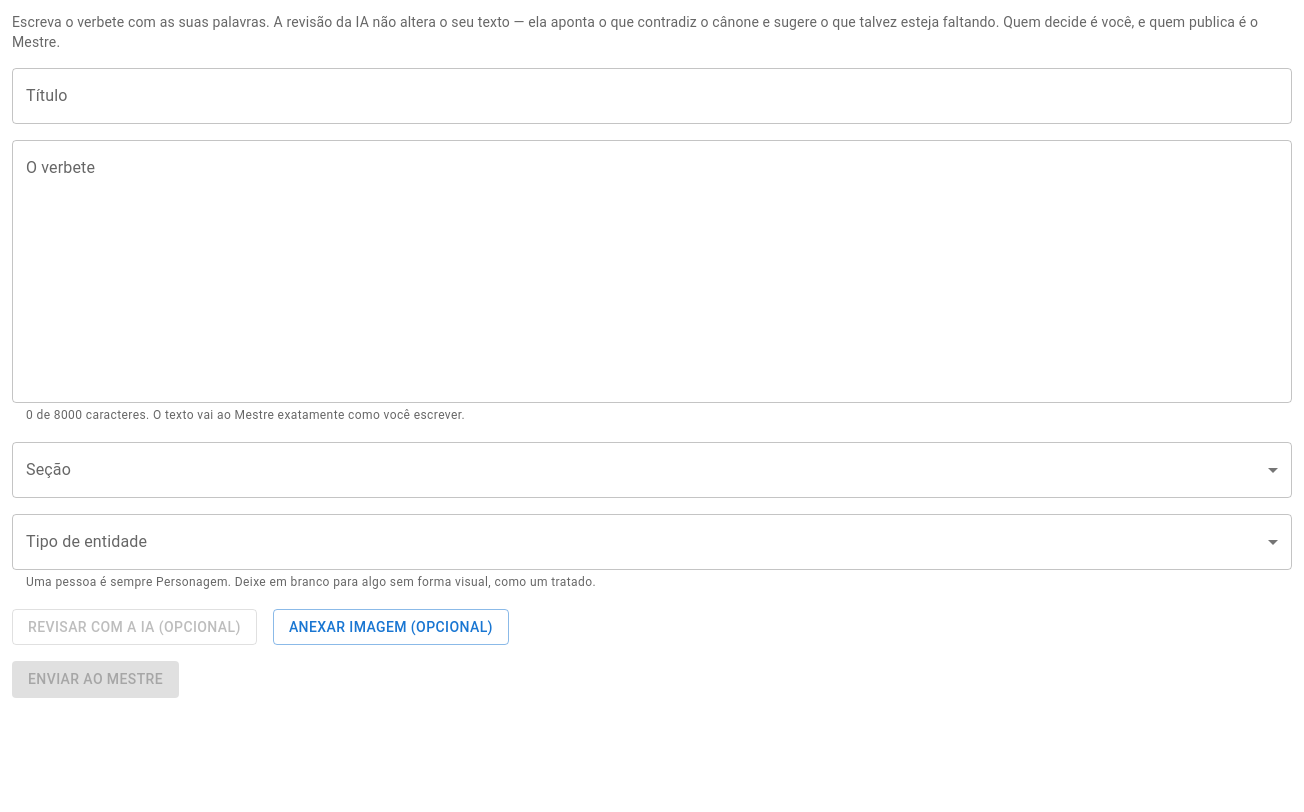
Test: o que a revisão mostra › diz claramente quando não há nada a apontar
In the field labelled "Título": (652, 96) [12,68,1292,124], type "Sera de Toreador"
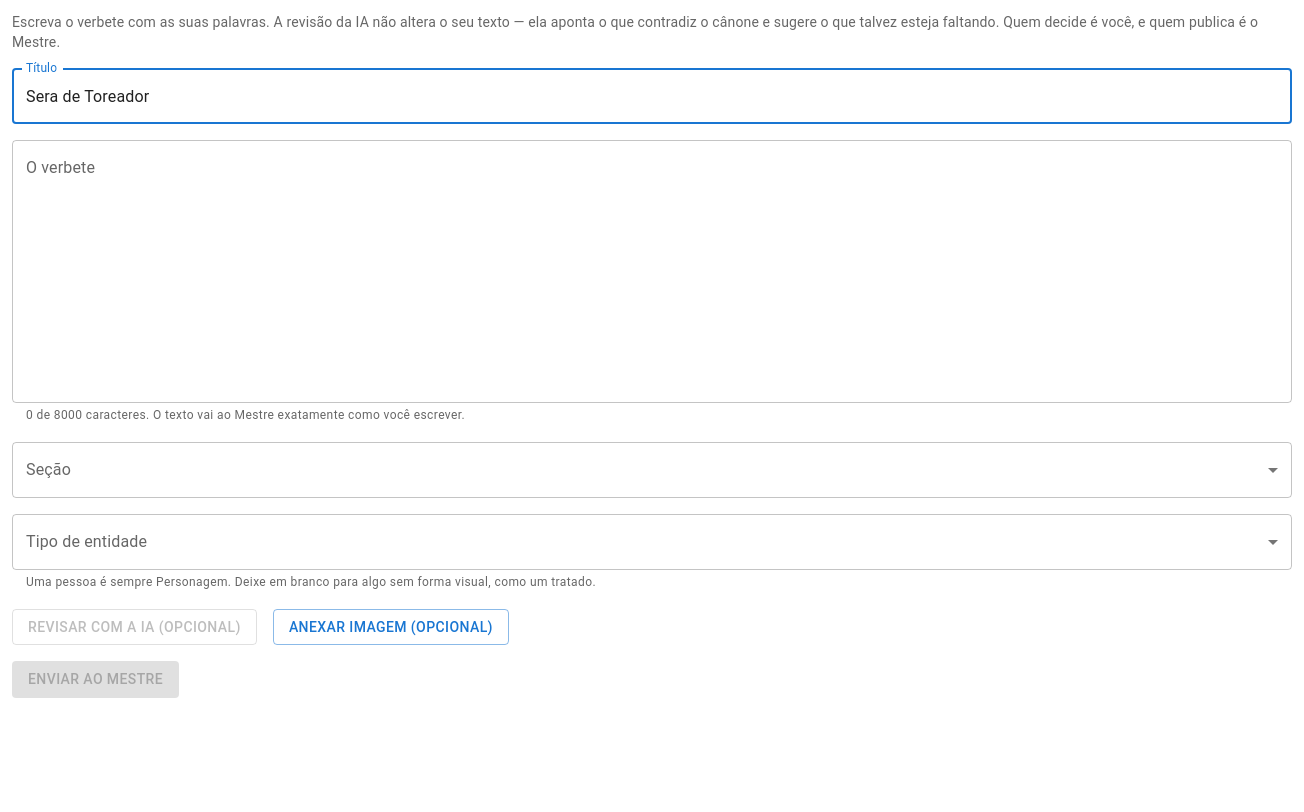
In the text box labelled "O verbete": (652, 272) [26,156,1278,386], type "Batedora das fronteiras do Norte, conhecida por atravessar o Muro dos Ausentes sozinha em pleno inverno."
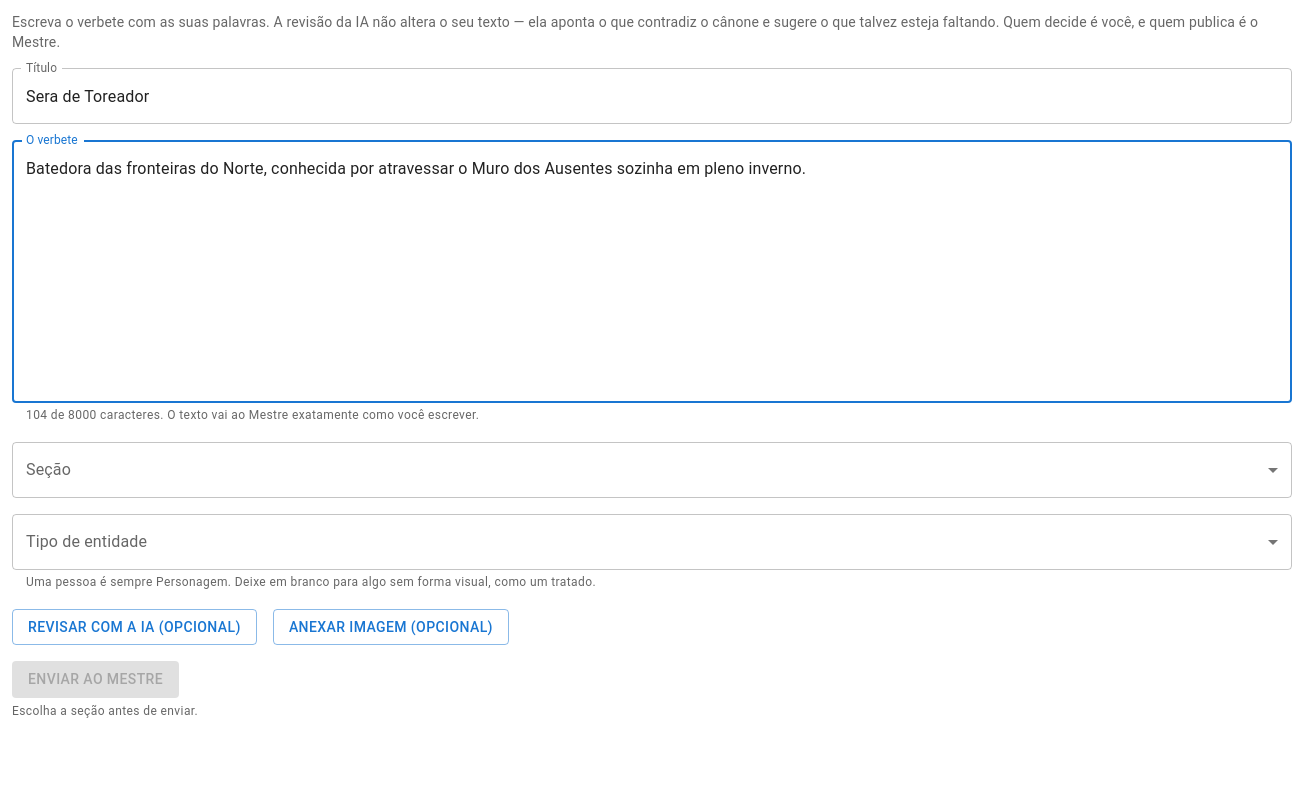
Click the button "Revisar com a IA (opcional)": (134, 627) [12,609,257,645]
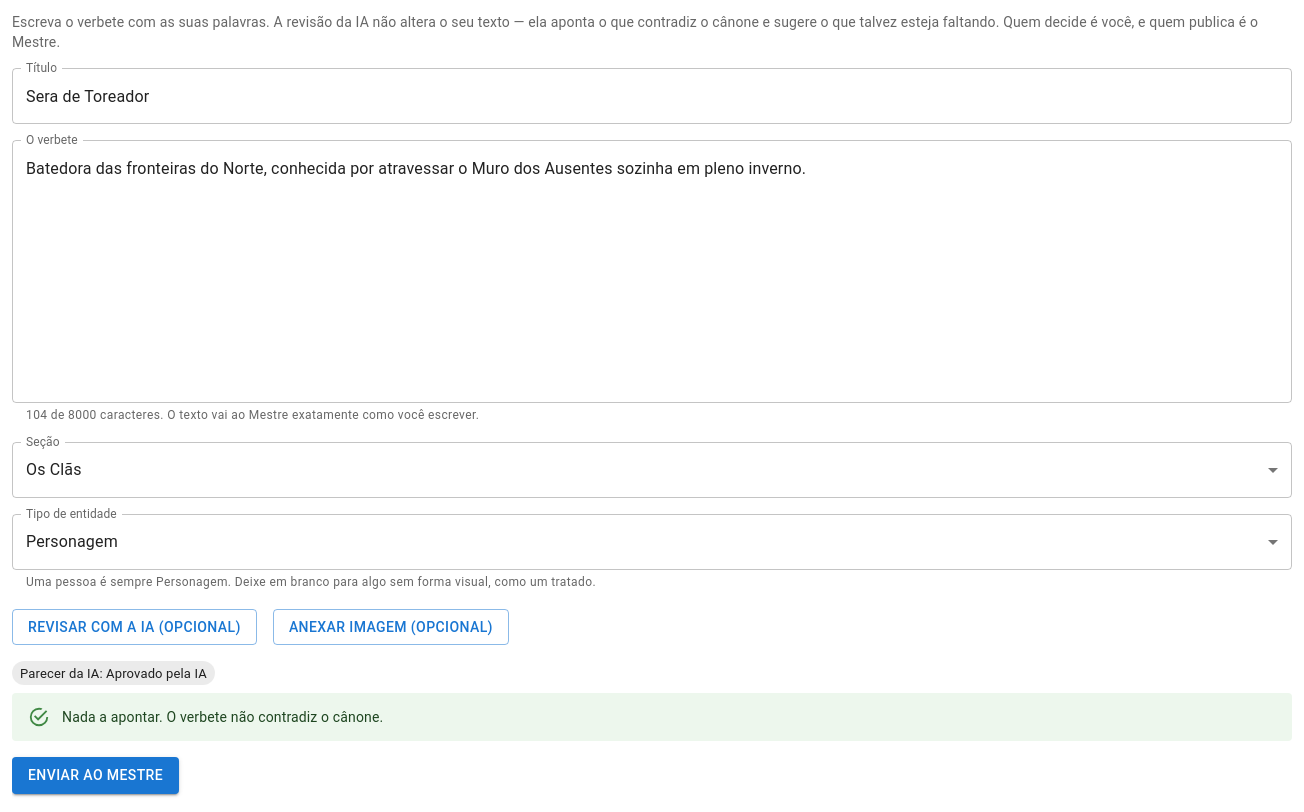
expect the text "Nada a apontar. O verbete não contradiz o cânone." is shown: met, box [62,709,383,725]
